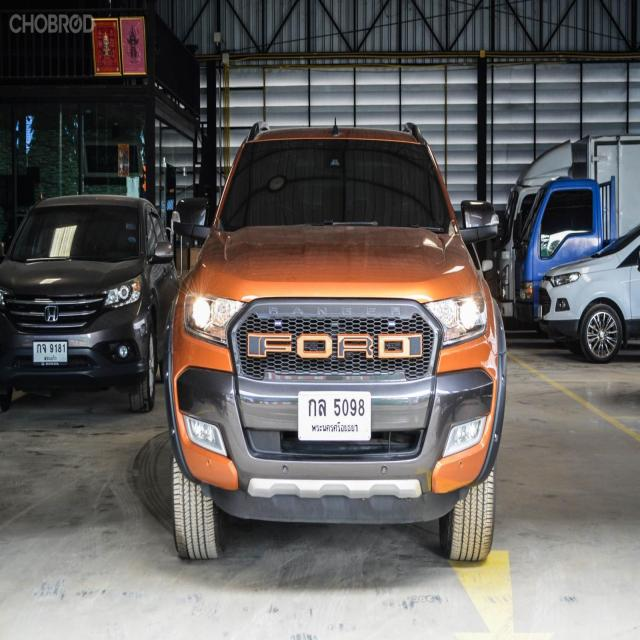license_plate: (297, 389, 371, 442)
